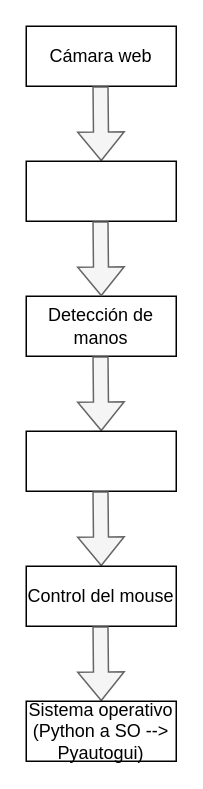
The diagram is 203 pixels wide and 789 high, and some of its shapes have lost their labels. The shapes that lost their labels are listed below. From the top down, each one's centre as x and y in pixels, then its label:
(100,190): Captura de video
(100,460): Reconocimiento de gestos
